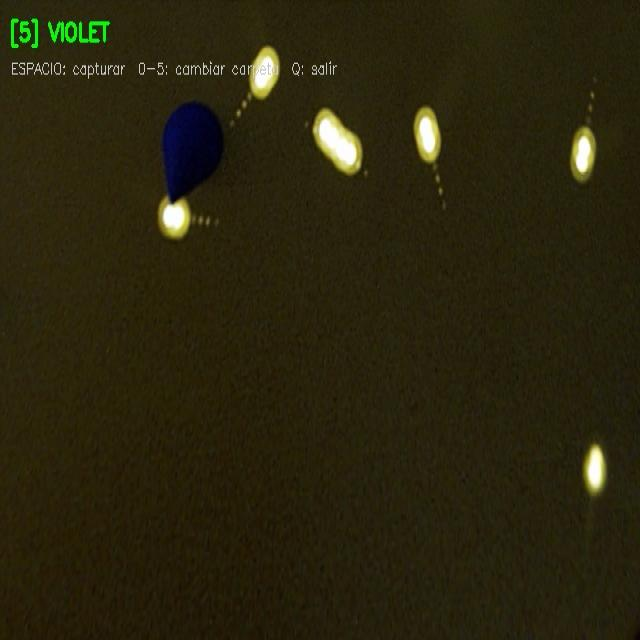violet: (163, 101, 223, 201)
